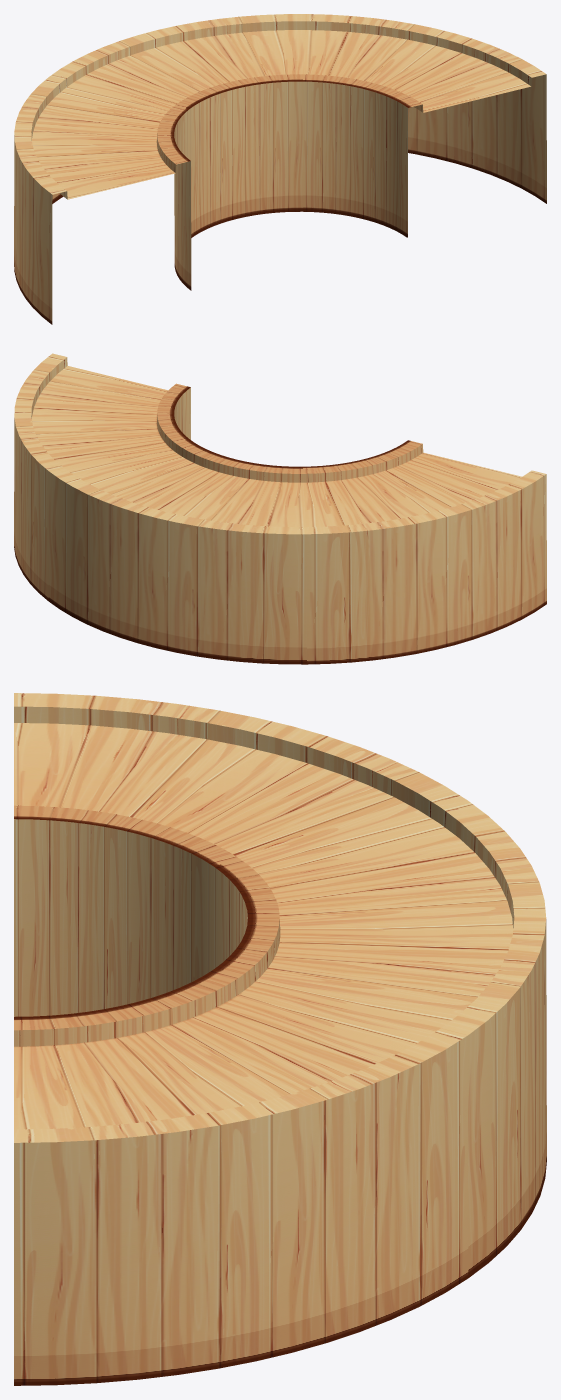
Rendered from round_table.fbx.
The picture shows the model from 3 angles, top to bottom: view 1: azimuth 30°, elevation 25°; view 2: azimuth 150°, elevation 25°; view 3: azimuth 270°, elevation 25°; orthographic projection. The views are drawn at different scales.
Parts seen in each view (by area): view 1: round_table; view 2: round_table; view 3: round_table.
Part boxes in pixels (left/top/right/bottom): round_table: left=14, top=14, right=546, bottom=324; round_table: left=14, top=353, right=546, bottom=664; round_table: left=14, top=693, right=546, bottom=1385.
Bounding box in the file's own units: 13.71 × 3.44 × 6.86.
